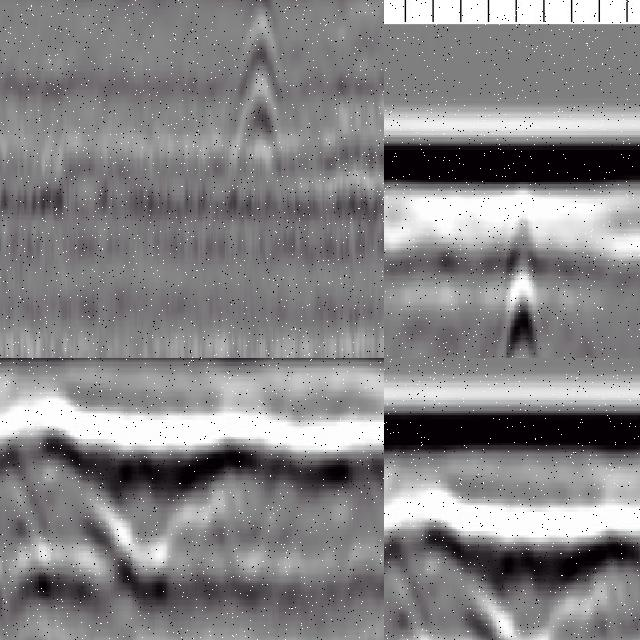crack: (238, 1, 283, 164), (507, 183, 539, 359)
loose: (1, 401, 245, 640), (385, 493, 627, 640)
